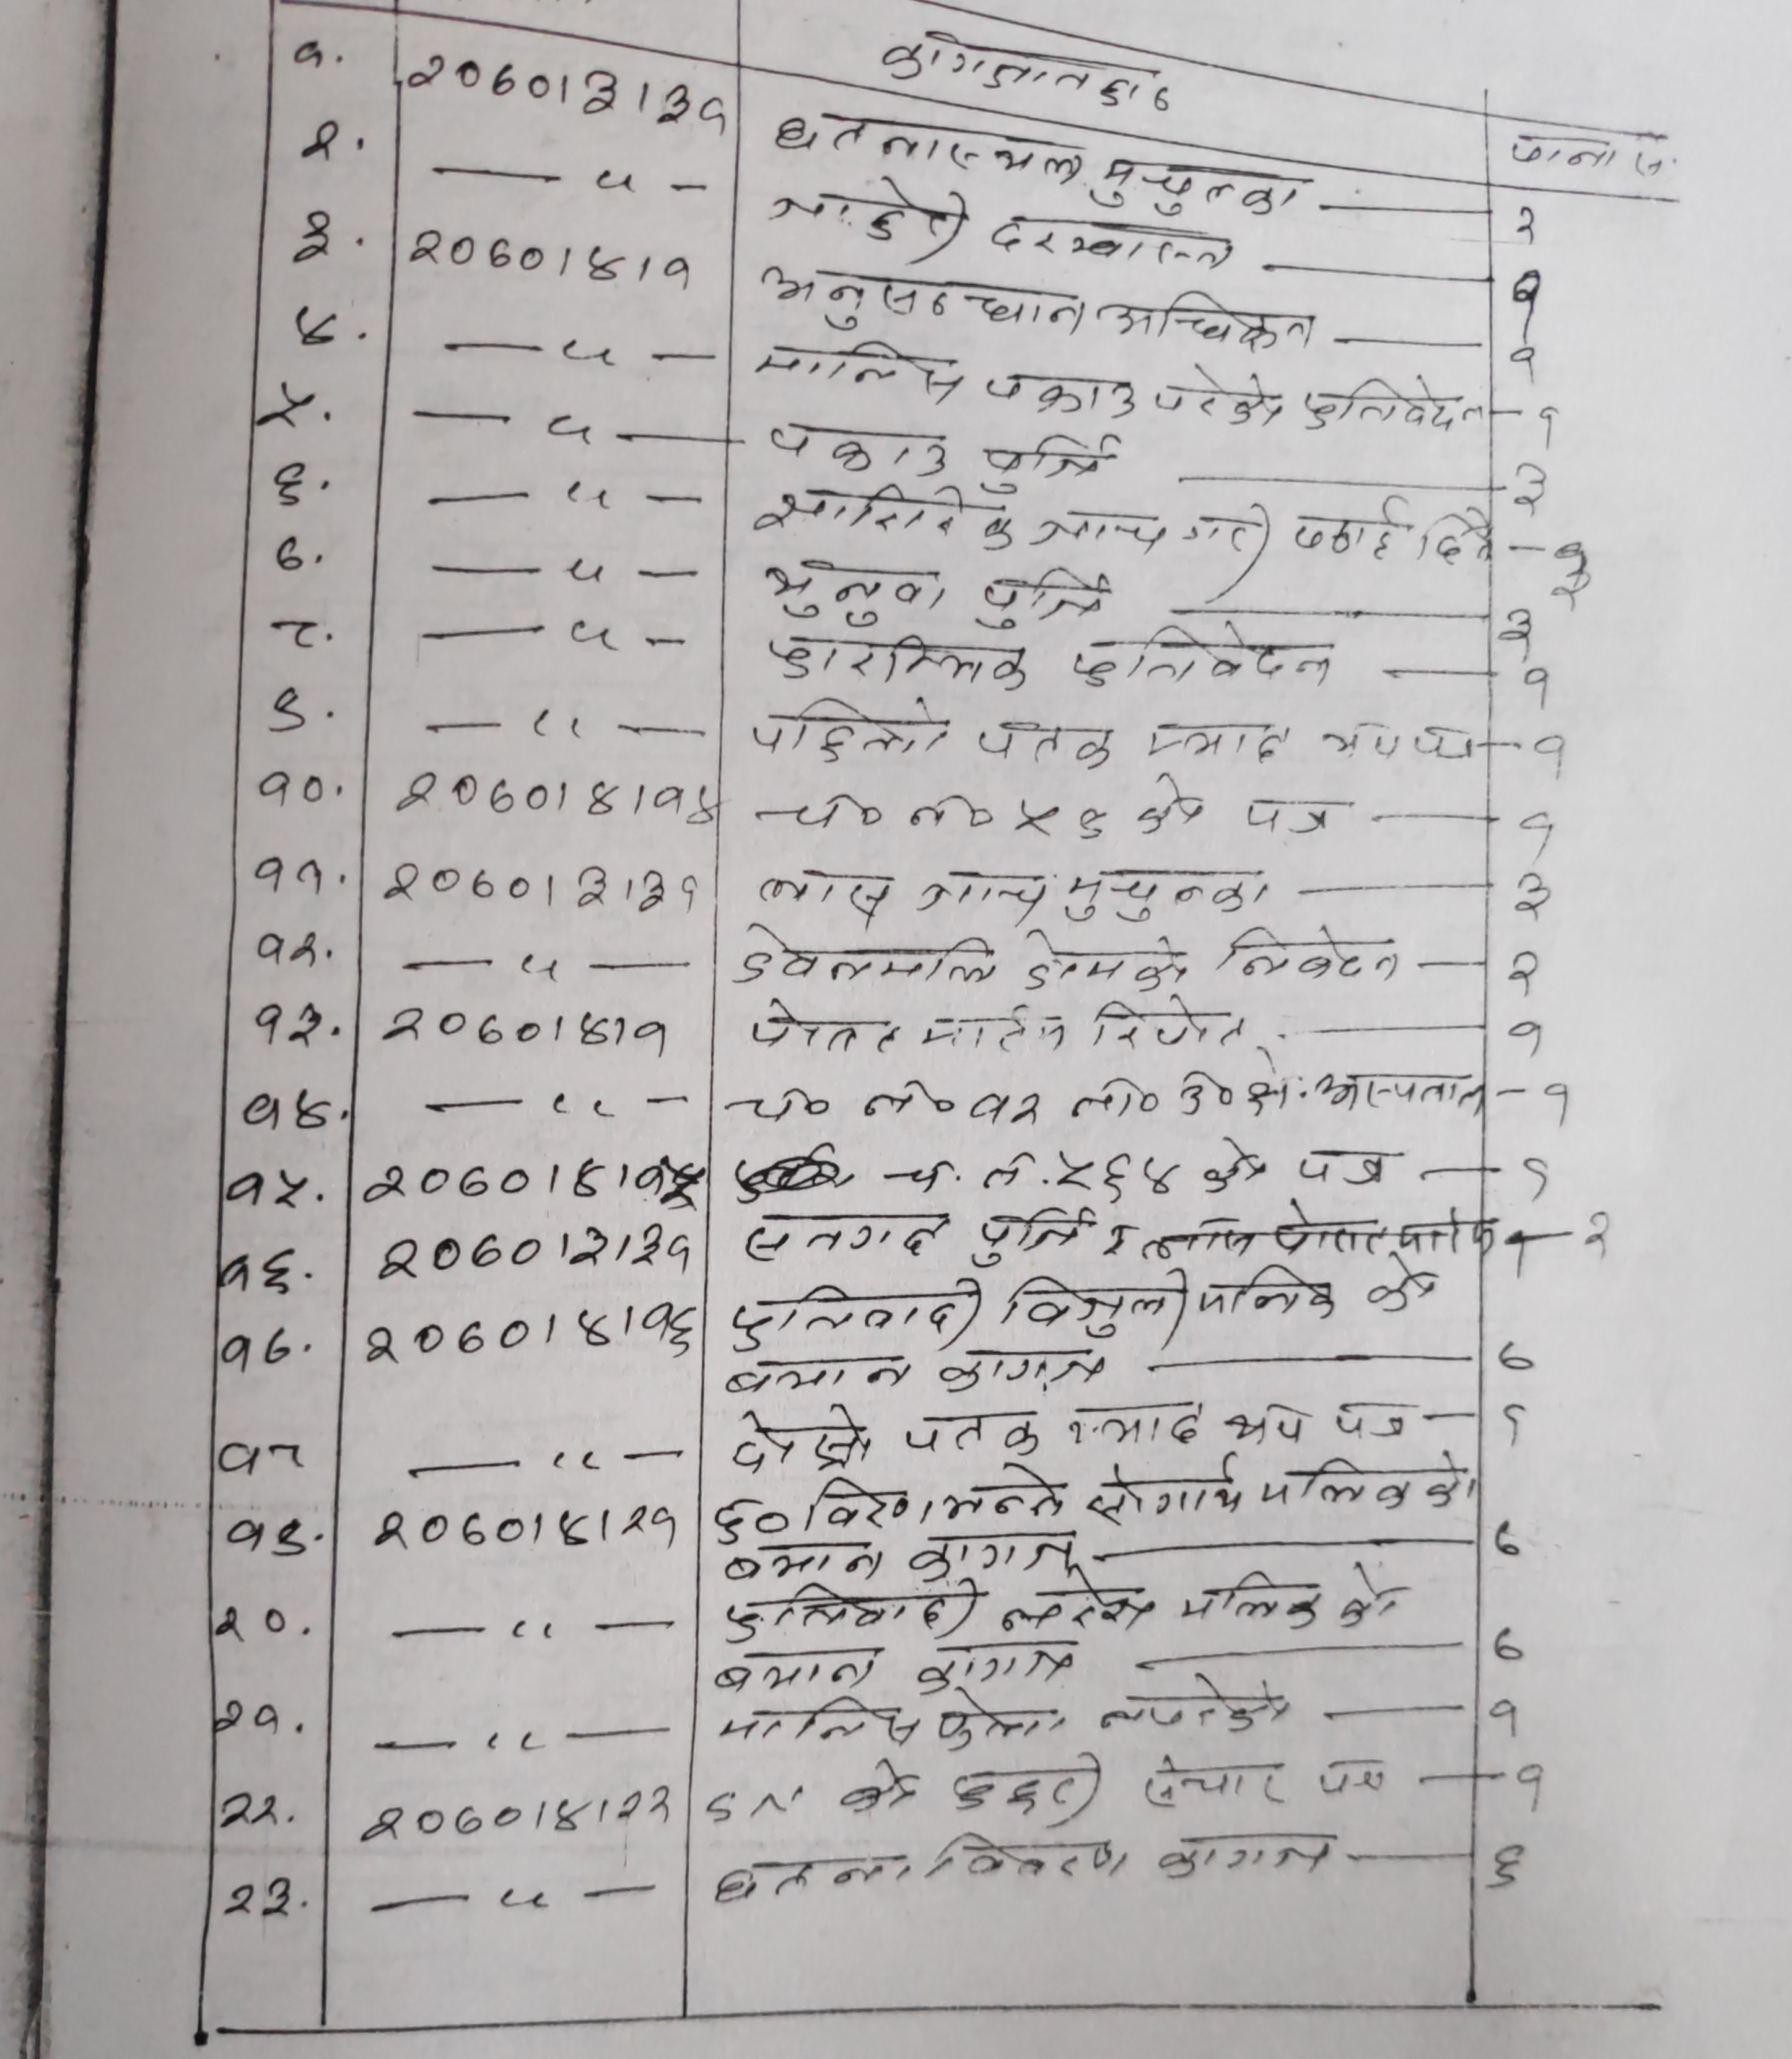text: (401, 46, 728, 140), (877, 23, 1181, 116), (765, 103, 1085, 186), (406, 217, 710, 303), (759, 261, 1088, 340), (359, 1296, 702, 1371), (369, 1215, 693, 1289), (752, 783, 1108, 844), (357, 1784, 681, 1851), (385, 767, 723, 830), (378, 854, 703, 917), (364, 1499, 688, 1562), (374, 996, 679, 1063), (360, 1154, 705, 1210), (730, 921, 997, 991), (759, 483, 1020, 555), (1069, 623, 1335, 692), (723, 1282, 982, 1350), (758, 632, 1038, 695), (983, 208, 1234, 271), (751, 336, 964, 410), (719, 1585, 987, 1642), (742, 695, 955, 767), (1256, 1450, 1480, 1518), (999, 1268, 1195, 1345), (1092, 1670, 1293, 1742), (1094, 152, 1304, 221), (1092, 289, 1319, 352), (779, 182, 980, 250), (758, 553, 945, 625), (927, 1830, 1132, 1894), (1059, 865, 1276, 924), (947, 1747, 1108, 1826), (740, 1210, 952, 1269), (703, 1847, 910, 1907), (710, 1697, 922, 1754), (726, 1402, 880, 1476), (1153, 1828, 1337, 1889), (1083, 1462, 1251, 1528), (758, 420, 948, 478), (1293, 373, 1463, 438), (1178, 1564, 1330, 1635), (1214, 924, 1402, 982), (1015, 928, 1185, 991), (1290, 488, 1431, 564), (1185, 1259, 1344, 1325), (742, 996, 899, 1063), (910, 1635, 1078, 1697), (968, 429, 1122, 495), (716, 1352, 917, 1402), (971, 564, 1113, 634), (1150, 361, 1291, 429), (982, 364, 1137, 425), (997, 1576, 1162, 1634), (1314, 716, 1484, 770), (933, 1462, 1071, 1528), (1059, 1395, 1213, 1455), (901, 1525, 1074, 1578), (707, 1644, 892, 1693), (929, 1345, 1113, 1394), (931, 1690, 1073, 1753), (1137, 1747, 1283, 1809), (973, 714, 1122, 774), (1176, 497, 1276, 585), (969, 1201, 1101, 1268), (796, 1472, 934, 1534), (1139, 714, 1295, 769), (751, 863, 896, 921), (1090, 996, 1244, 1051), (901, 1404, 1050, 1460), (917, 1000, 1071, 1052), (717, 1542, 889, 1586), (1029, 502, 1171, 555), (908, 872, 1050, 923), (219, 1161, 315, 1233), (240, 1077, 334, 1147), (217, 1233, 301, 1306), (1508, 130, 1624, 182), (840, 1749, 920, 1823), (219, 1420, 310, 1485), (243, 989, 327, 1059), (219, 1313, 297, 1387), (1242, 788, 1342, 840), (227, 1511, 311, 1569), (248, 917, 325, 979), (1367, 1254, 1442, 1315), (213, 1686, 287, 1746), (220, 1868, 294, 1928), (212, 1597, 297, 1648), (252, 760, 327, 818), (254, 844, 329, 902), (255, 376, 322, 439), (213, 1784, 282, 1840), (261, 678, 317, 744), (282, 301, 345, 352), (287, 207, 336, 271), (297, 114, 350, 170), (264, 460, 310, 517), (269, 611, 322, 658), (289, 26, 334, 79), (269, 531, 310, 581)
